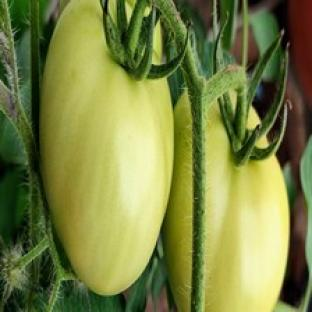Tomato: (205, 104, 289, 311)
